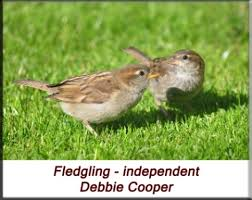hsparrow: (10, 63, 164, 139), (118, 45, 204, 107)
